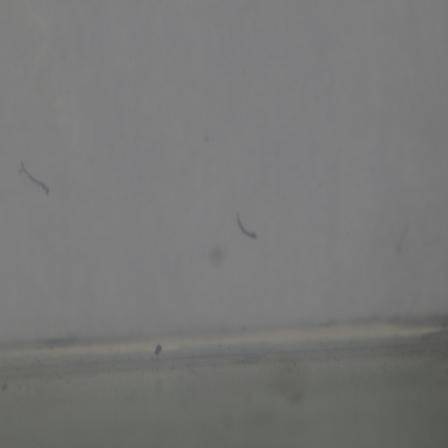Jentik-Nyamuk: (17, 158, 55, 199), (229, 208, 260, 243)
